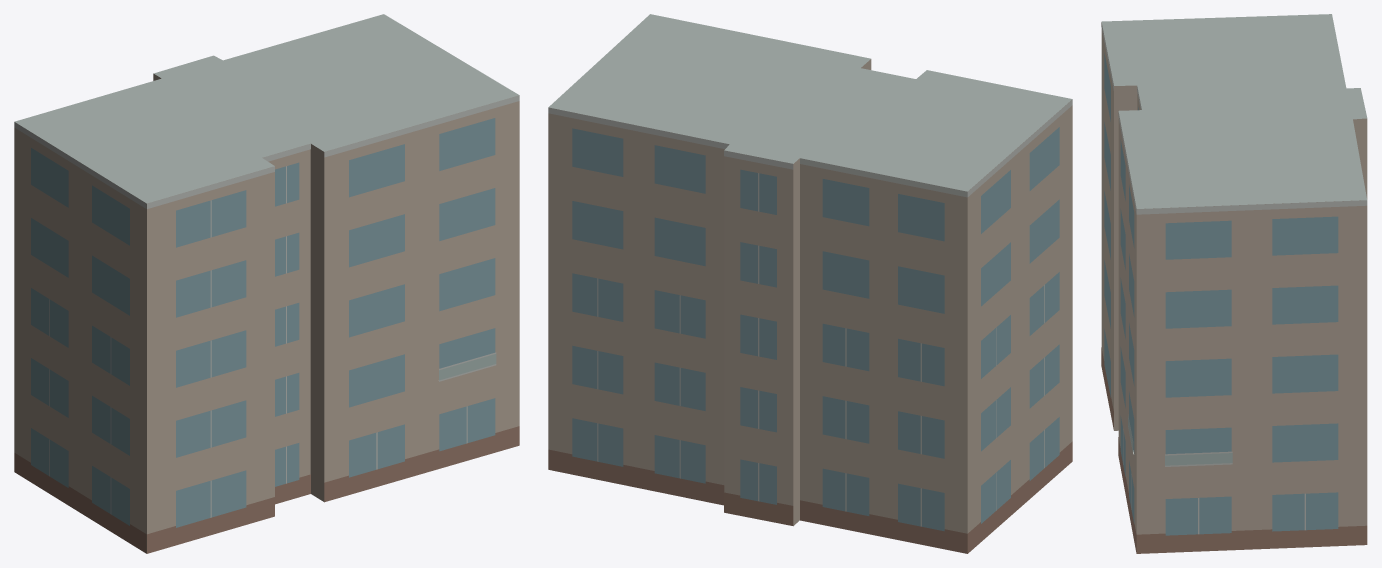
The model's file is survey-upis-32628607.glb.
3 renders of one model, left to right at view 1: azimuth 30°, elevation 25°; view 2: azimuth 150°, elevation 25°; view 3: azimuth 270°, elevation 25°, orthographic. The views are drawn at different scales.
Parts seen in each view (by area): view 1: survey-upis-32628607.tmp; view 2: survey-upis-32628607.tmp; view 3: survey-upis-32628607.tmp.
Part boxes in pixels (x1,y1,x2,y2): survey-upis-32628607.tmp: (14,14,519,553); survey-upis-32628607.tmp: (548,14,1072,553); survey-upis-32628607.tmp: (1101,14,1367,553).
Bounding box in the file's own units: 18.27 × 15.05 × 10.53.
